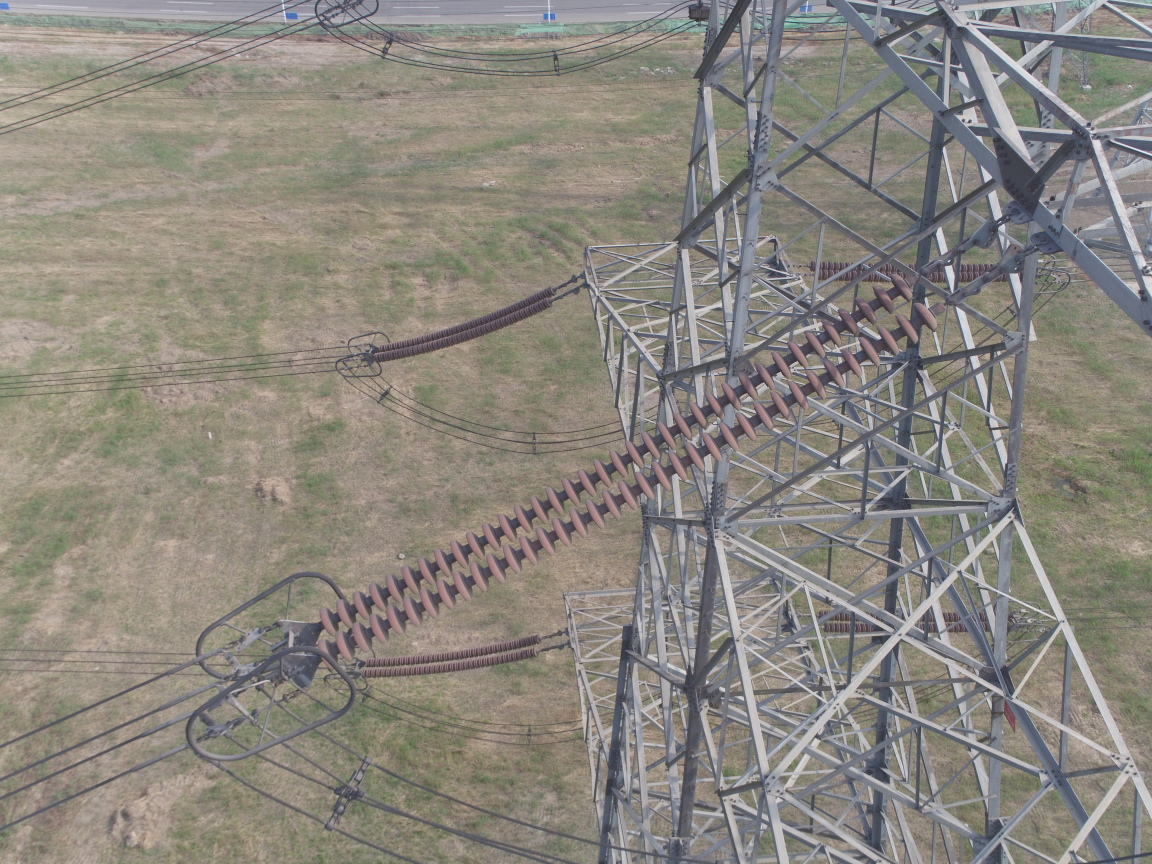insulator: (309, 273, 949, 674), (363, 283, 566, 365), (354, 629, 553, 681)
